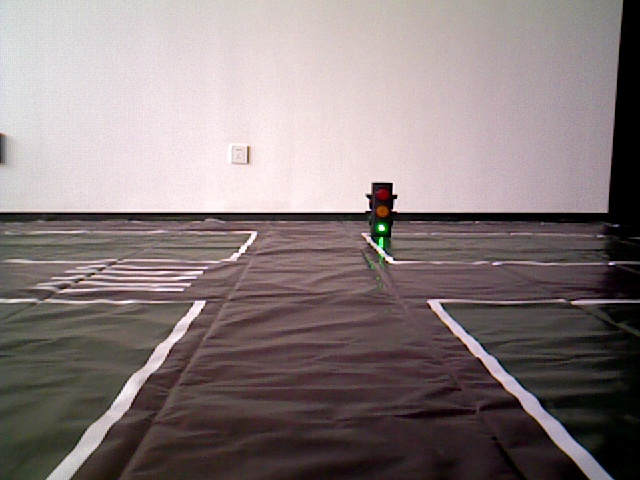green: (371, 184, 391, 235)
